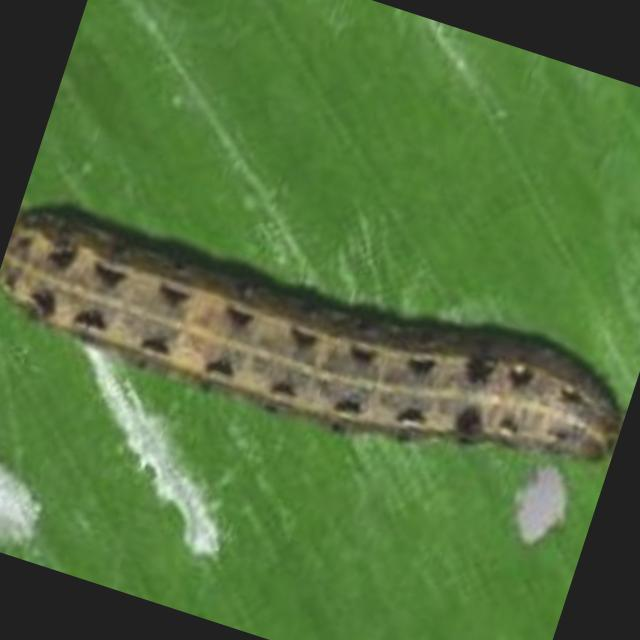Tobacco cutworm: (0, 118, 640, 563)
